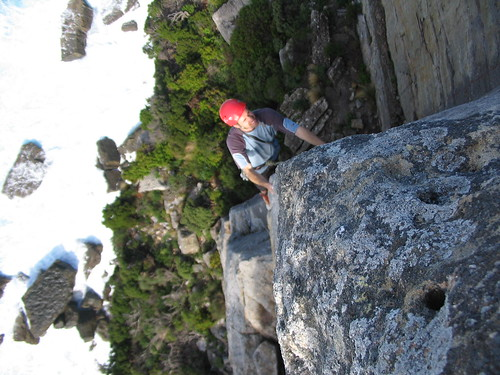helmet: (213, 94, 245, 124)
